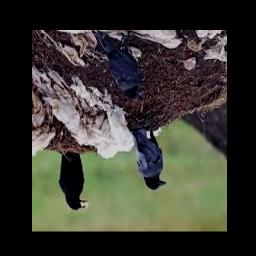Crow: (97, 31, 144, 100), (131, 128, 168, 191), (59, 153, 88, 210)
